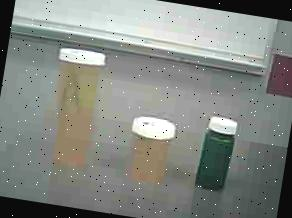Bottle A: (42, 45, 109, 168)
Bottle B: (124, 114, 180, 186)
Bottle C: (195, 114, 244, 194)
